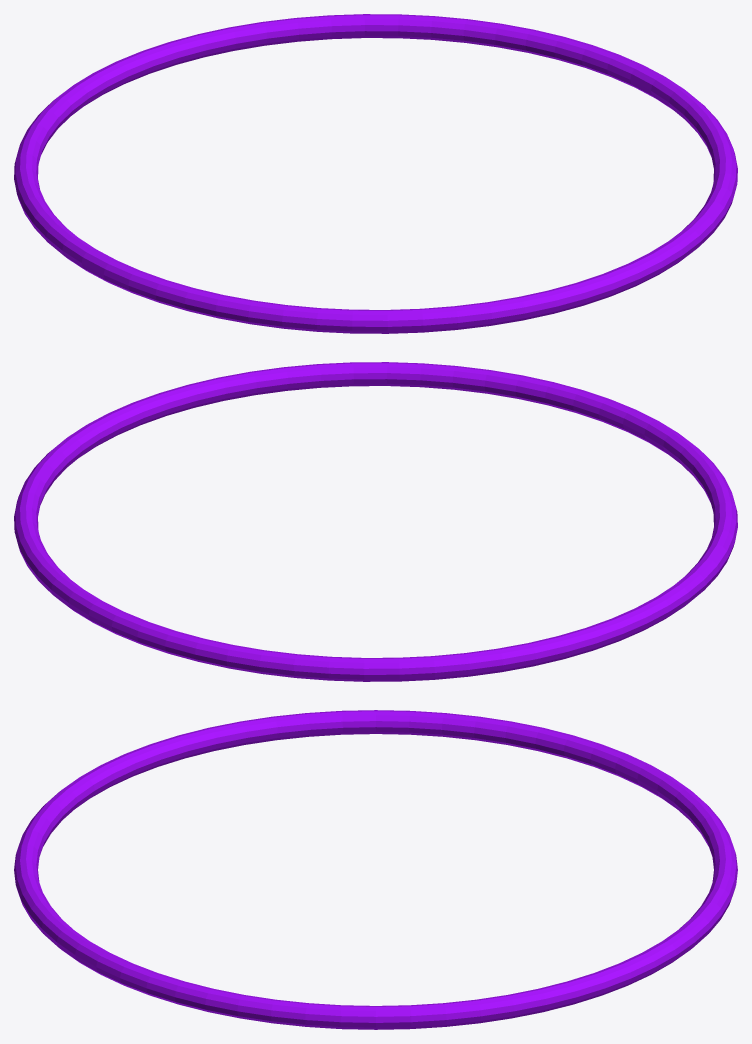
The model's file is Arena_Magic.obj.
3 renders of one model, top to bottom at view 1: azimuth 30°, elevation 25°; view 2: azimuth 150°, elevation 25°; view 3: azimuth 270°, elevation 25°, orthographic.
Visible parts, largest first — view 1: Magic_Ring; view 2: Magic_Ring; view 3: Magic_Ring.
Boxes of the visible parts, x1=… form: Magic_Ring: x1=14, y1=14, x2=737, y2=333; Magic_Ring: x1=14, y1=362, x2=737, y2=681; Magic_Ring: x1=14, y1=710, x2=737, y2=1029.
Size of the model in its own units: 7.24 by 0.24 by 7.24.
